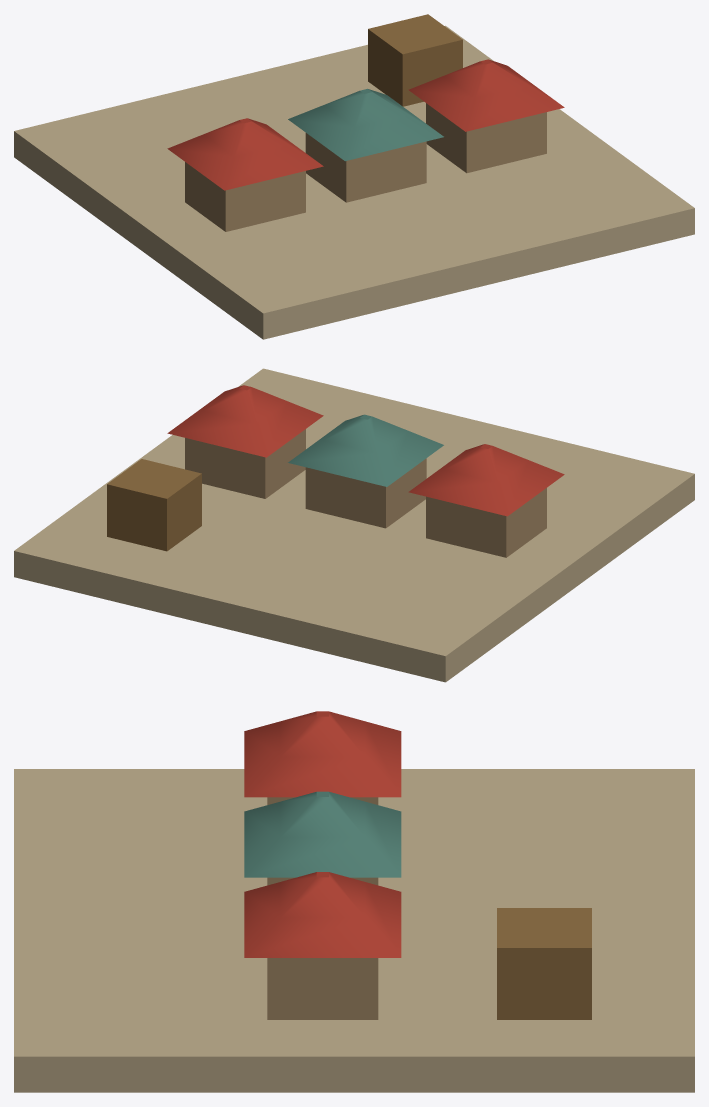
File: shi_ji_qu.glb
3 renders of one model, top to bottom at view 1: azimuth 30°, elevation 25°; view 2: azimuth 150°, elevation 25°; view 3: azimuth 270°, elevation 25°, orthographic. The views are drawn at different scales.
Parts seen in each view (by area): view 1: _MeshInstance3D_171, _MeshInstance3D_173, _MeshInstance3D_177, _MeshInstance3D_175, _MeshInstance3D_178, _MeshInstance3D_172, _MeshInstance3D_174, _MeshInstance3D_176; view 2: _MeshInstance3D_171, _MeshInstance3D_178, _MeshInstance3D_173, _MeshInstance3D_175, _MeshInstance3D_177, _MeshInstance3D_172, _MeshInstance3D_174, _MeshInstance3D_176; view 3: _MeshInstance3D_171, _MeshInstance3D_177, _MeshInstance3D_173, _MeshInstance3D_175, _MeshInstance3D_178, _MeshInstance3D_176.
Boxes of the visible parts, box(x1,y1,x2,y2) form: _MeshInstance3D_171: box(14, 25, 694, 339); _MeshInstance3D_173: box(167, 118, 323, 190); _MeshInstance3D_177: box(408, 59, 564, 131); _MeshInstance3D_175: box(288, 88, 443, 161); _MeshInstance3D_178: box(368, 14, 462, 106); _MeshInstance3D_172: box(185, 162, 305, 231); _MeshInstance3D_174: box(305, 133, 426, 202); _MeshInstance3D_176: box(426, 103, 546, 173); _MeshInstance3D_171: box(14, 368, 694, 682); _MeshInstance3D_178: box(107, 459, 201, 551); _MeshInstance3D_173: box(408, 444, 564, 516); _MeshInstance3D_175: box(288, 414, 443, 486); _MeshInstance3D_177: box(167, 385, 323, 457); _MeshInstance3D_172: box(426, 488, 546, 557); _MeshInstance3D_174: box(305, 458, 426, 528); _MeshInstance3D_176: box(185, 429, 305, 498); _MeshInstance3D_171: box(14, 769, 694, 1092); _MeshInstance3D_177: box(244, 872, 401, 957); _MeshInstance3D_173: box(244, 711, 401, 797); _MeshInstance3D_175: box(244, 791, 401, 877); _MeshInstance3D_178: box(497, 908, 591, 1019); _MeshInstance3D_176: box(267, 958, 378, 1019).
Size of the model in its own units: 0.86 by 0.215 by 0.86.
